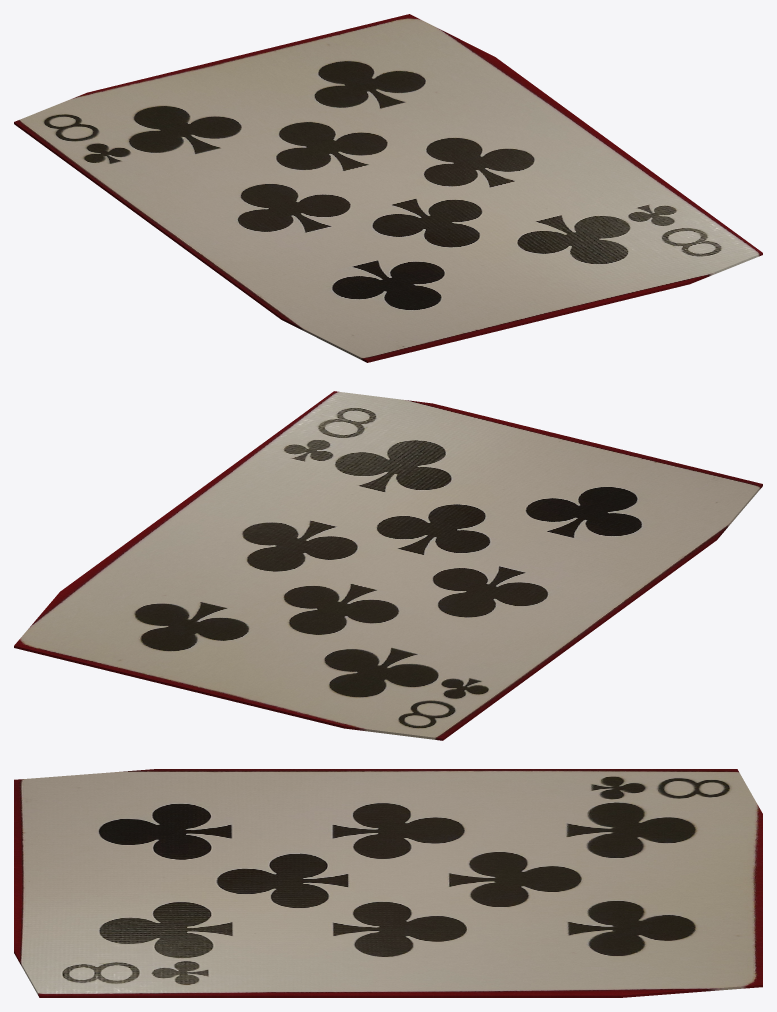
File: Carta_Poker_Normal_8_Treboles.glb
The picture shows the model from 3 angles, top to bottom: view 1: azimuth 30°, elevation 25°; view 2: azimuth 150°, elevation 25°; view 3: azimuth 270°, elevation 25°; orthographic projection. The views are drawn at different scales.
Parts seen in each view (by area): view 1: Carta_Poker_Normal_8_Treboles; view 2: Carta_Poker_Normal_8_Treboles; view 3: Carta_Poker_Normal_8_Treboles.
Boxes of the visible parts, x1=… form: Carta_Poker_Normal_8_Treboles: x1=14, y1=14, x2=762, y2=362; Carta_Poker_Normal_8_Treboles: x1=14, y1=391, x2=762, y2=740; Carta_Poker_Normal_8_Treboles: x1=14, y1=769, x2=762, y2=997.
Size of the model in its own units: 0.063 by 0.0003 by 0.088.
Materials: 1 (1 with a texture image).
